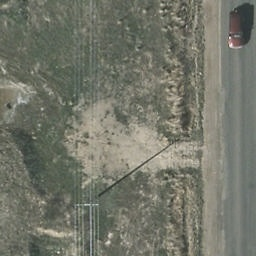car: (227, 12, 245, 49)
